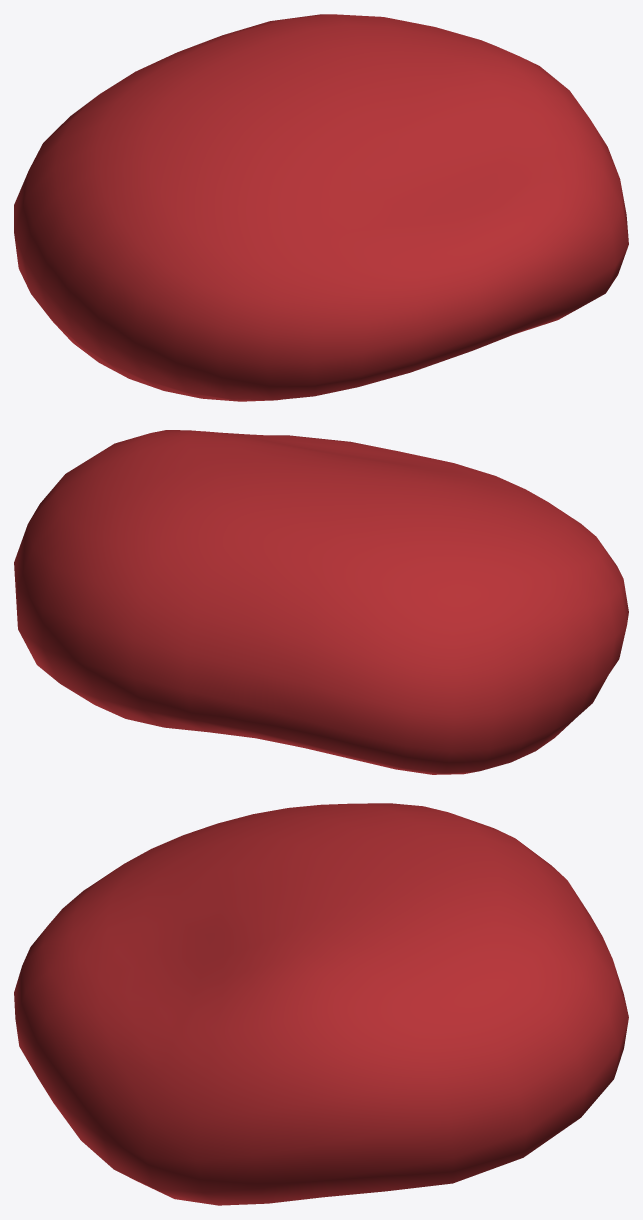
File: anticorps.fbx
3 renders of one model, top to bottom at view 1: azimuth 30°, elevation 25°; view 2: azimuth 150°, elevation 25°; view 3: azimuth 270°, elevation 25°, orthographic. The views are drawn at different scales.
Visible parts, largest first — view 1: Sphere; view 2: Sphere; view 3: Sphere.
Boxes of the visible parts, x1,y1,x2,y2 form: Sphere: [14, 14, 628, 401]; Sphere: [14, 430, 628, 774]; Sphere: [14, 803, 628, 1205].
Size of the model in its own units: 98.39 by 41.54 by 90.36.
